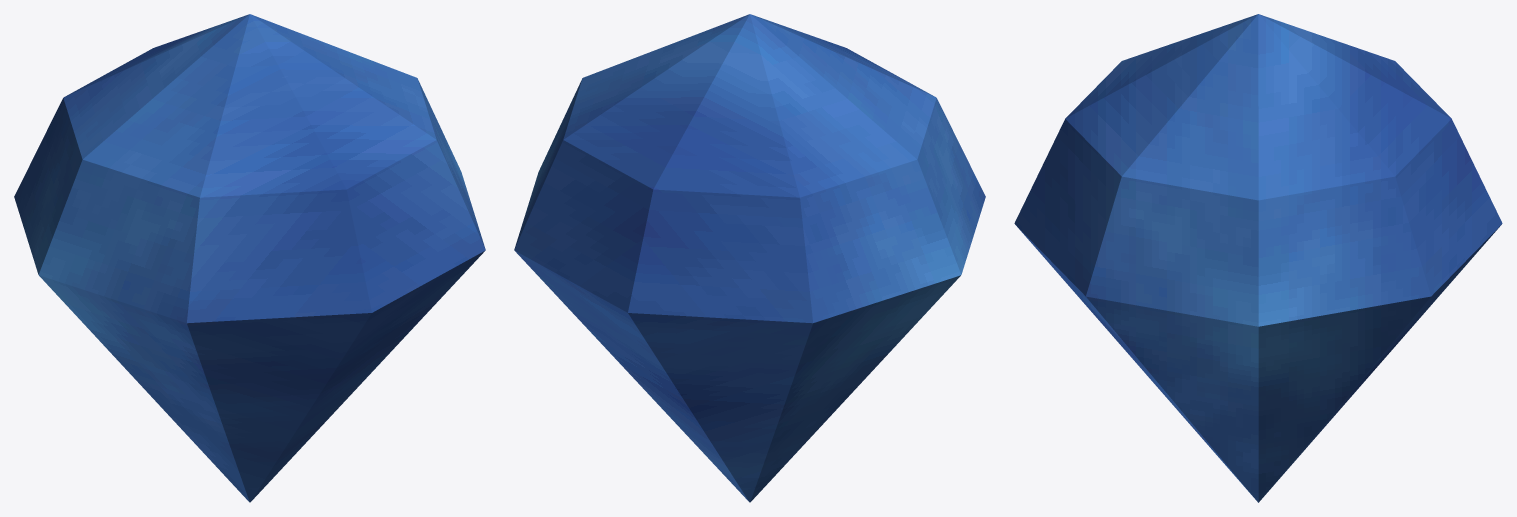
File: large_diamond_blue.obj
3 views of the same model, side by side, from view 1: azimuth 30°, elevation 25°; view 2: azimuth 150°, elevation 25°; view 3: azimuth 270°, elevation 25° (orthographic).
Parts seen in each view (by area): view 1: crystal_b; view 2: crystal_b; view 3: crystal_b.
Part boxes in pixels (left/top/right/bottom): crystal_b: left=14, top=14, right=485, bottom=502; crystal_b: left=514, top=14, right=985, bottom=502; crystal_b: left=1014, top=14, right=1502, bottom=502.
Size of the model in its own units: 8.16 by 9.01 by 8.16.
1 material, 1 textured.
